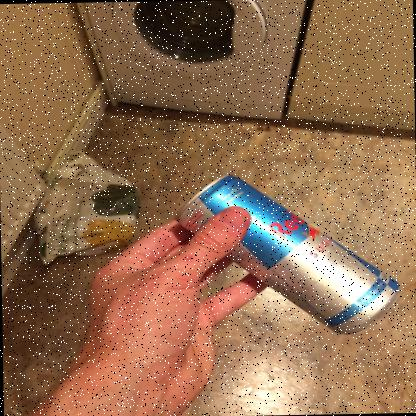Drink can: (174, 173, 401, 334)
Single-use carrier bag: (34, 151, 140, 264)
